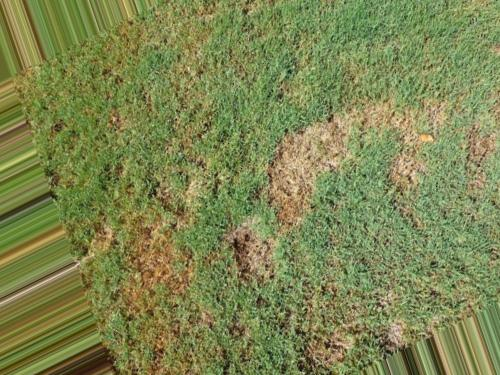patch: (287, 150, 318, 185), (246, 233, 272, 262), (319, 124, 344, 144)
